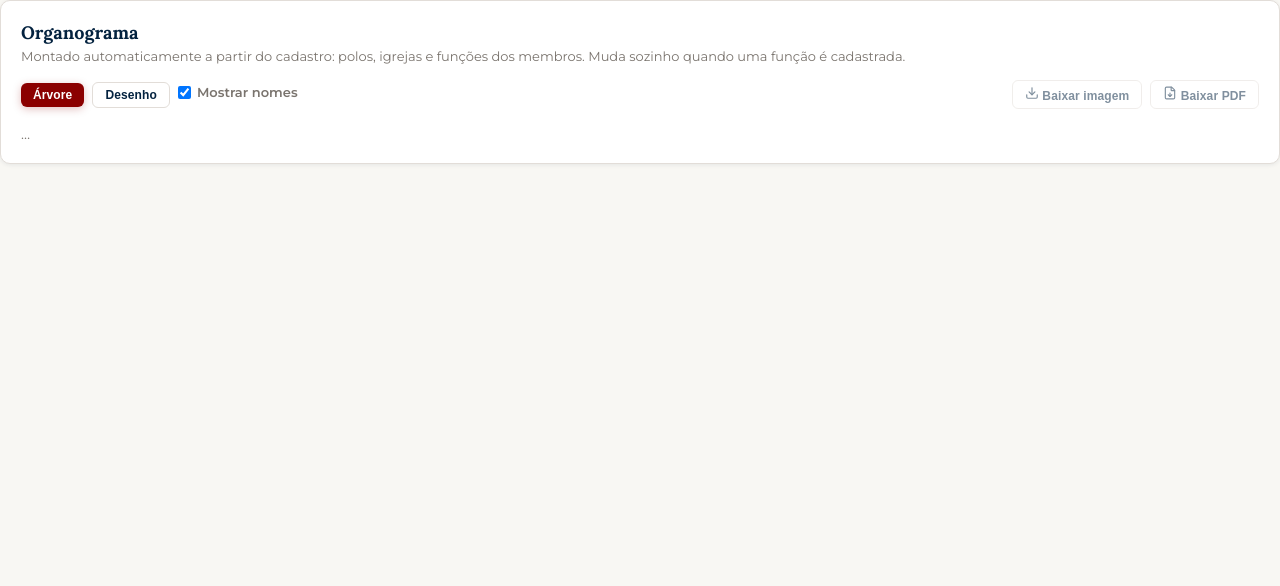
Test: OrgChartPanel › drawing and export › opens and closes any function row on click
Click the button "Desenho" at point(131, 94), box 92,82 -> 170,108
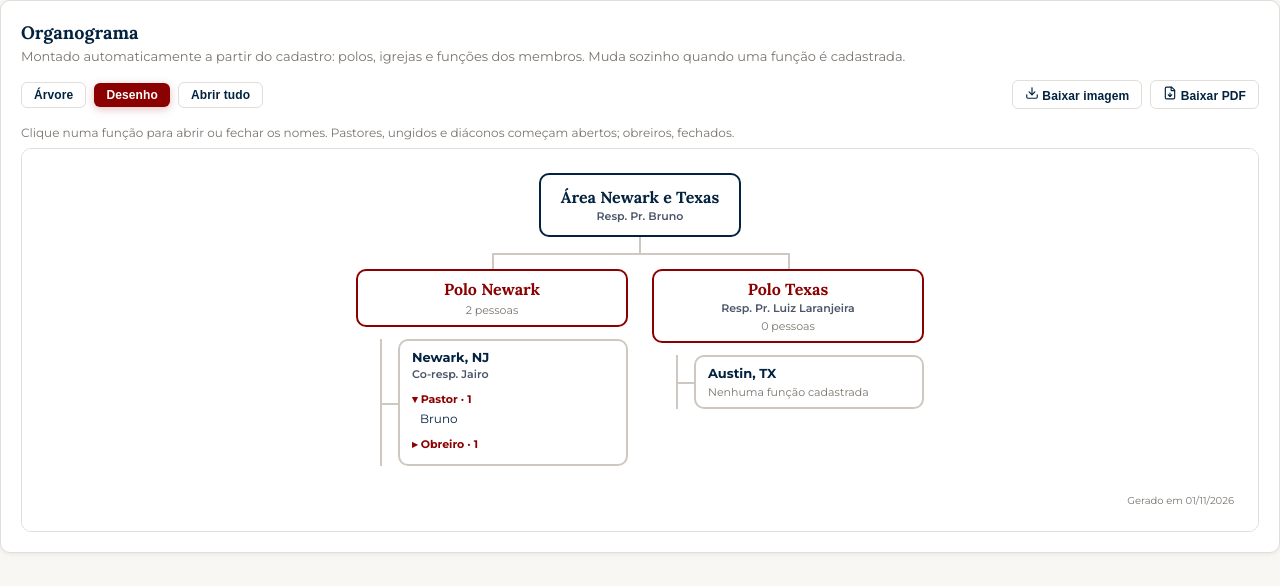
Click the button "▸ Obreiro · 1" at point(445, 444), box 412,432 -> 478,456
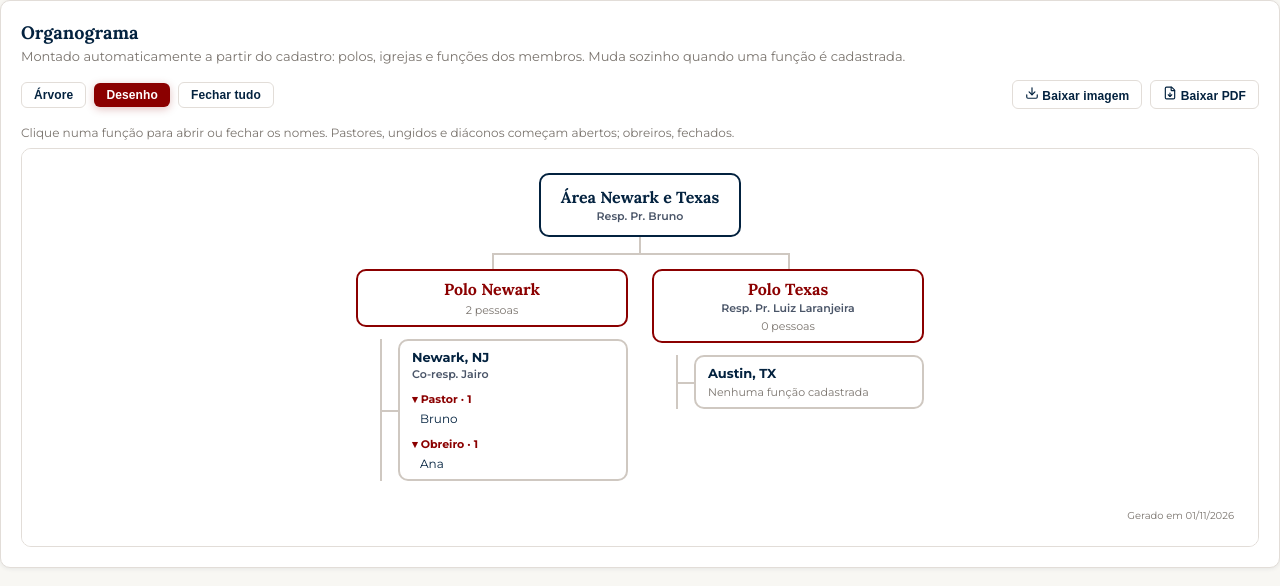
expect the text "Ana" is shown: met, box 420,456 -> 444,471
Click the button "▾ Obreiro · 1" at point(445, 444), box 412,432 -> 478,456
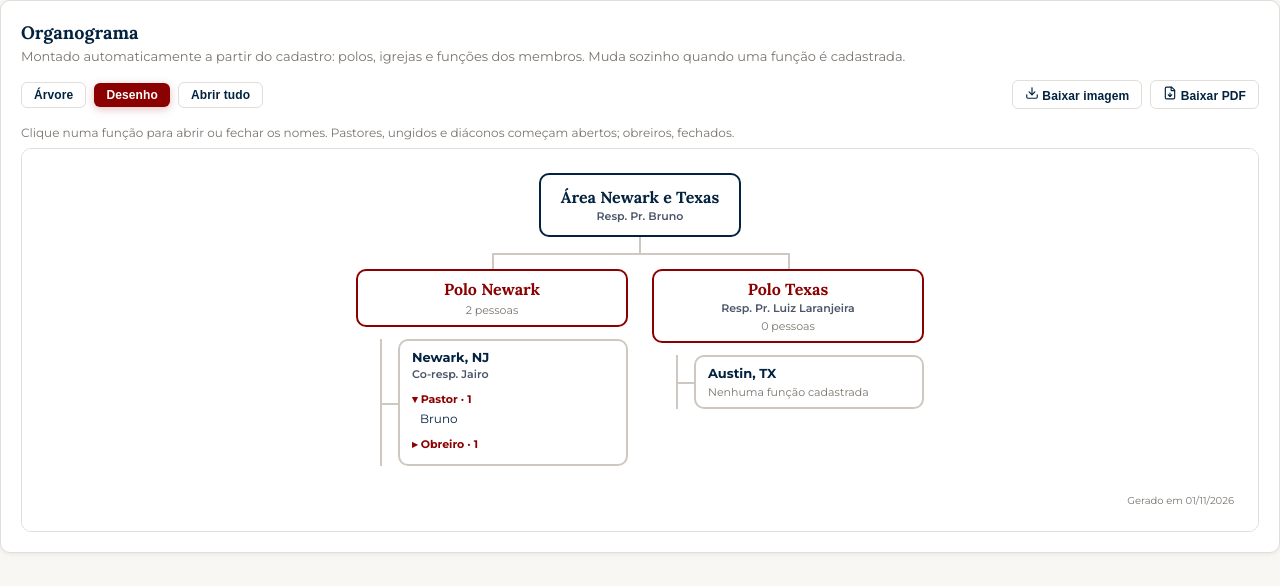
expect the text "Ana" is gone: met
Click the button "▾ Pastor · 1" at point(442, 399), box 412,387 -> 472,411
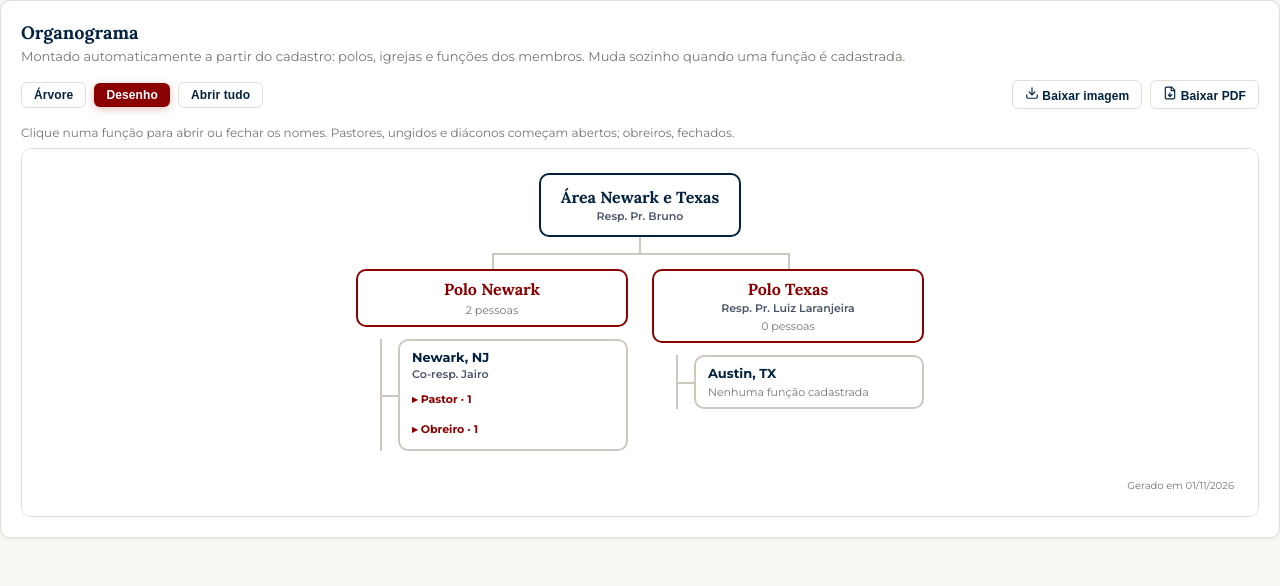
expect the button "▸ Pastor · 1" is shown: met, box 412,387 -> 472,411
